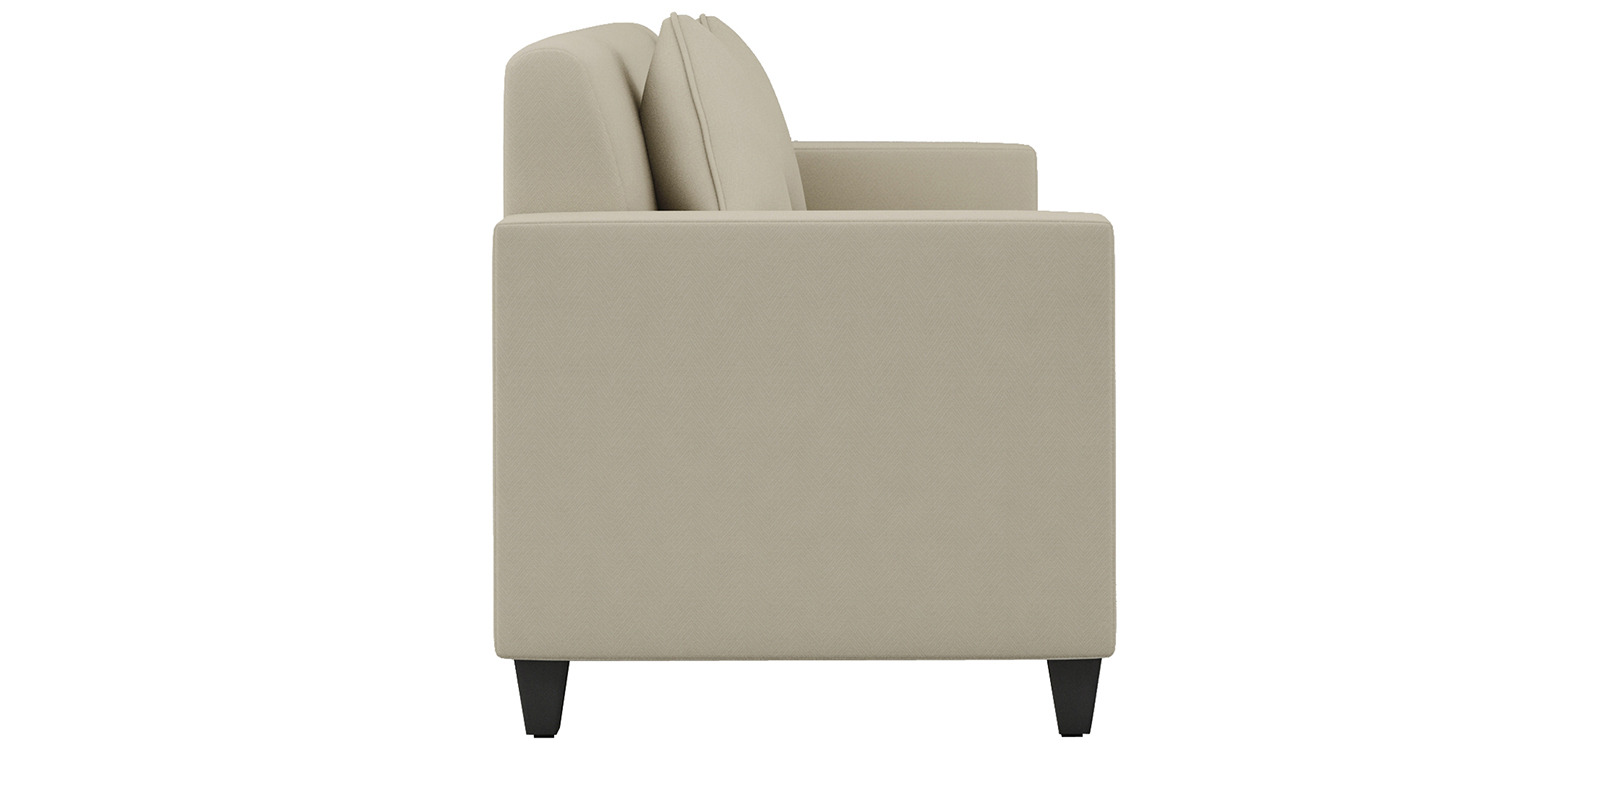Cooper Three Seater Sofa in Beige Colour by ARRA: (478, 13, 1138, 767)
